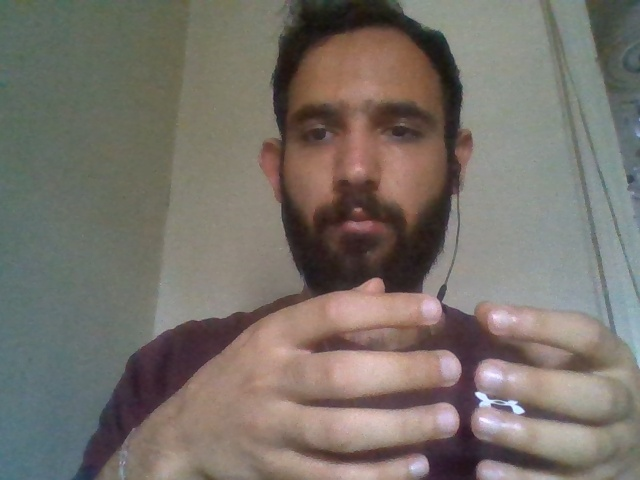Story: (224, 266, 640, 480)
